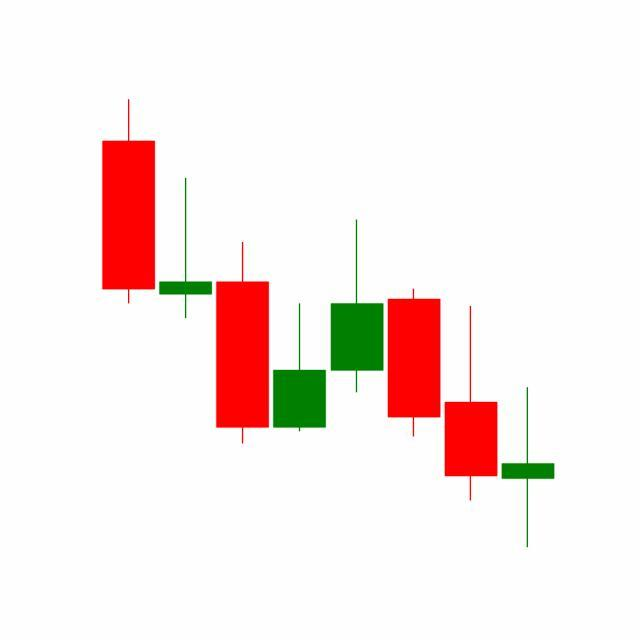Three Outside Up-Down: (328, 217, 500, 504)
